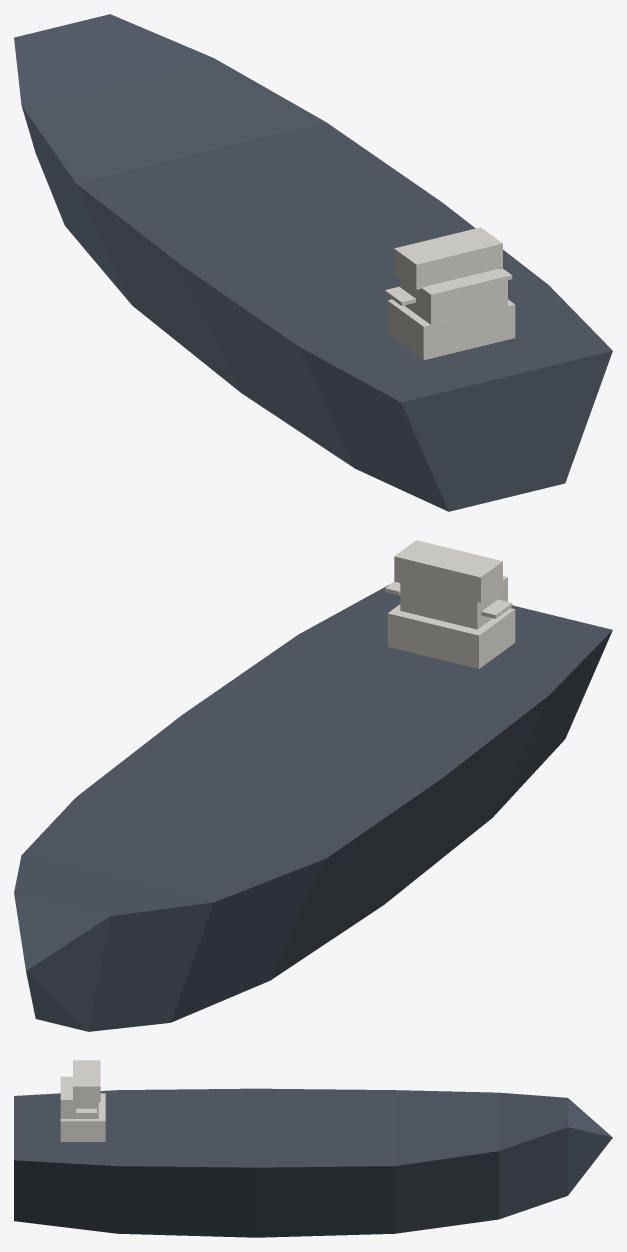
Rendered from Ship.fbx.
The picture shows the model from 3 angles, top to bottom: view 1: azimuth 30°, elevation 25°; view 2: azimuth 150°, elevation 25°; view 3: azimuth 270°, elevation 25°; orthographic projection. The views are drawn at different scales.
Visible parts, largest first — view 1: SuperBase; view 2: SuperBase; view 3: SuperBase.
Part boxes in pixels (x1,y1,x2,y2): SuperBase: [14, 14, 612, 511]; SuperBase: [14, 540, 612, 1031]; SuperBase: [14, 1060, 612, 1237].
Size of the model in its own units: 540 by 1730 by 455.
